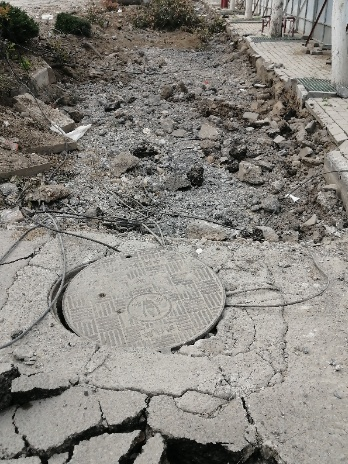uncovered: (47, 250, 226, 350)
